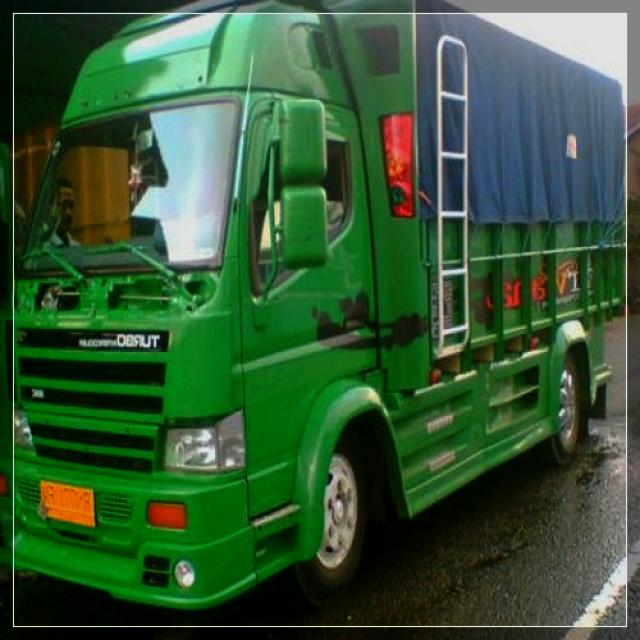truck: (3, 1, 630, 613)
